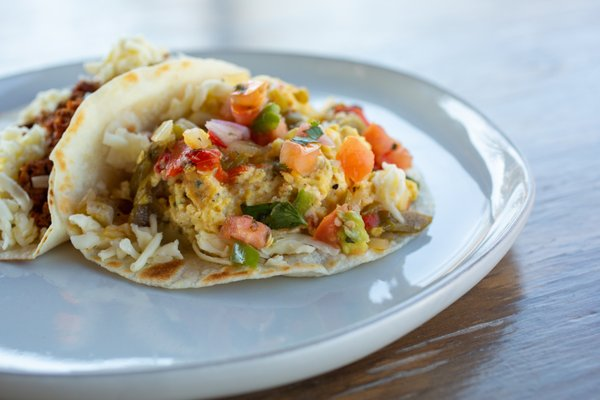curry: (1, 2, 587, 391)
pizza: (363, 122, 413, 170), (337, 135, 375, 184)
